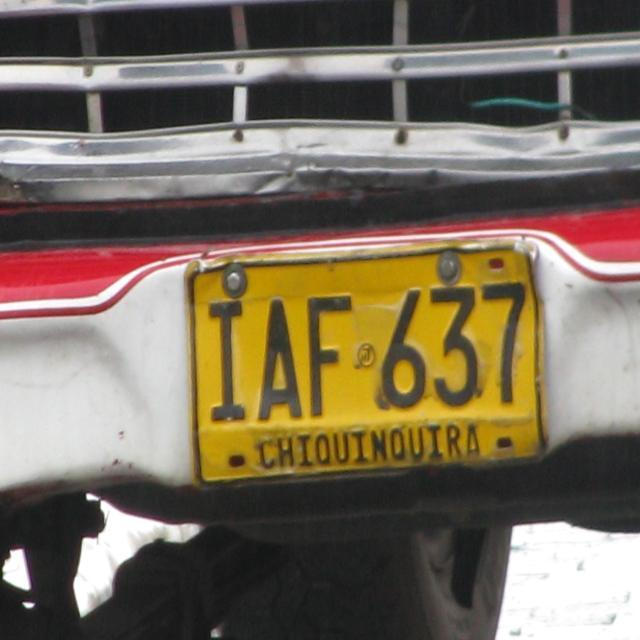placa: (180, 232, 550, 492)
